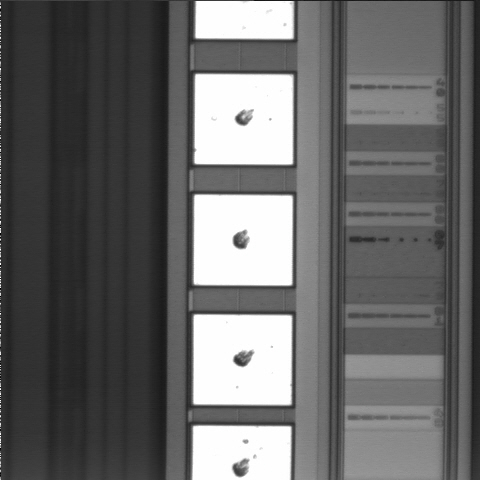pad: (194, 74, 293, 164), (194, 195, 293, 285), (193, 315, 292, 405)
